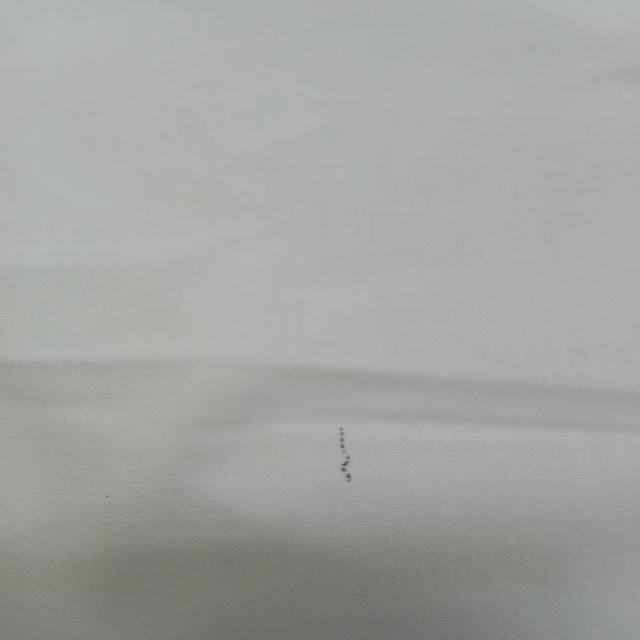contamination: (317, 416, 372, 489)
